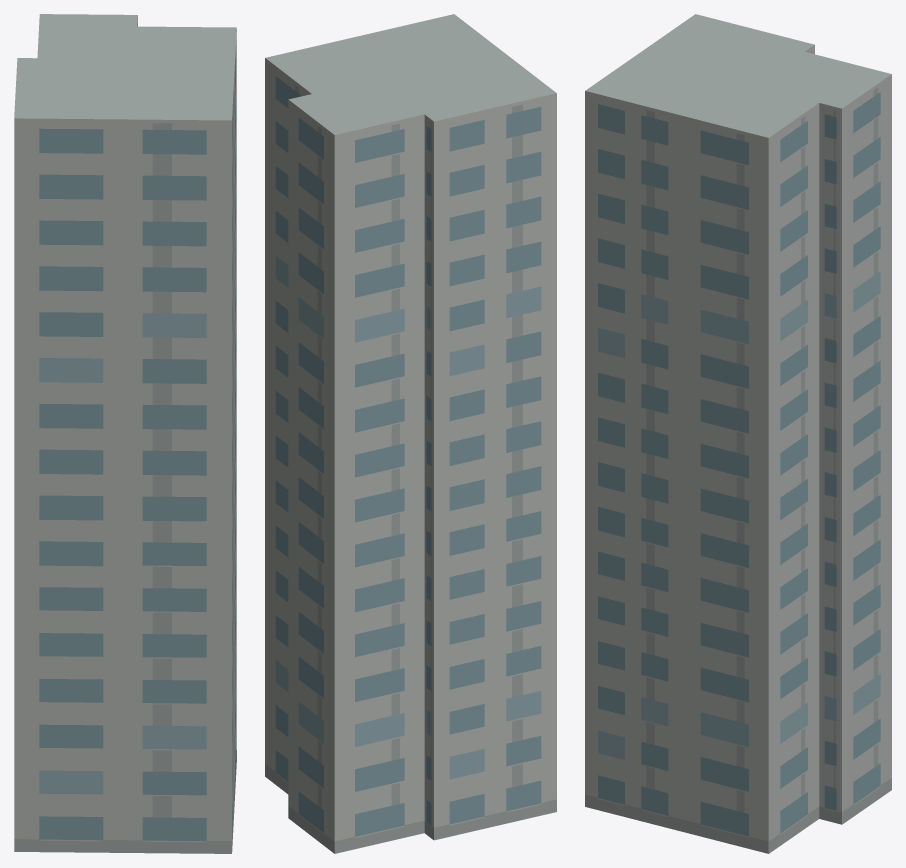
File: residential-2c2428f6-c366-4429-b61b-4cb7f942f037.glb
3 renders of one model, left to right at view 1: azimuth 30°, elevation 25°; view 2: azimuth 150°, elevation 25°; view 3: azimuth 270°, elevation 25°, orthographic. The views are drawn at different scales.
Parts seen in each view (by area): view 1: residential-2c2428f6-c366-4429-b61b-4cb7f942f037.tmp; view 2: residential-2c2428f6-c366-4429-b61b-4cb7f942f037.tmp; view 3: residential-2c2428f6-c366-4429-b61b-4cb7f942f037.tmp.
Part boxes in pixels (x1=…): residential-2c2428f6-c366-4429-b61b-4cb7f942f037.tmp: x1=14, y1=14, x2=236, y2=853; residential-2c2428f6-c366-4429-b61b-4cb7f942f037.tmp: x1=265, y1=14, x2=556, y2=853; residential-2c2428f6-c366-4429-b61b-4cb7f942f037.tmp: x1=585, y1=14, x2=891, y2=853.
Bounding box in the file's own units: 18.57 × 50 × 19.42.
